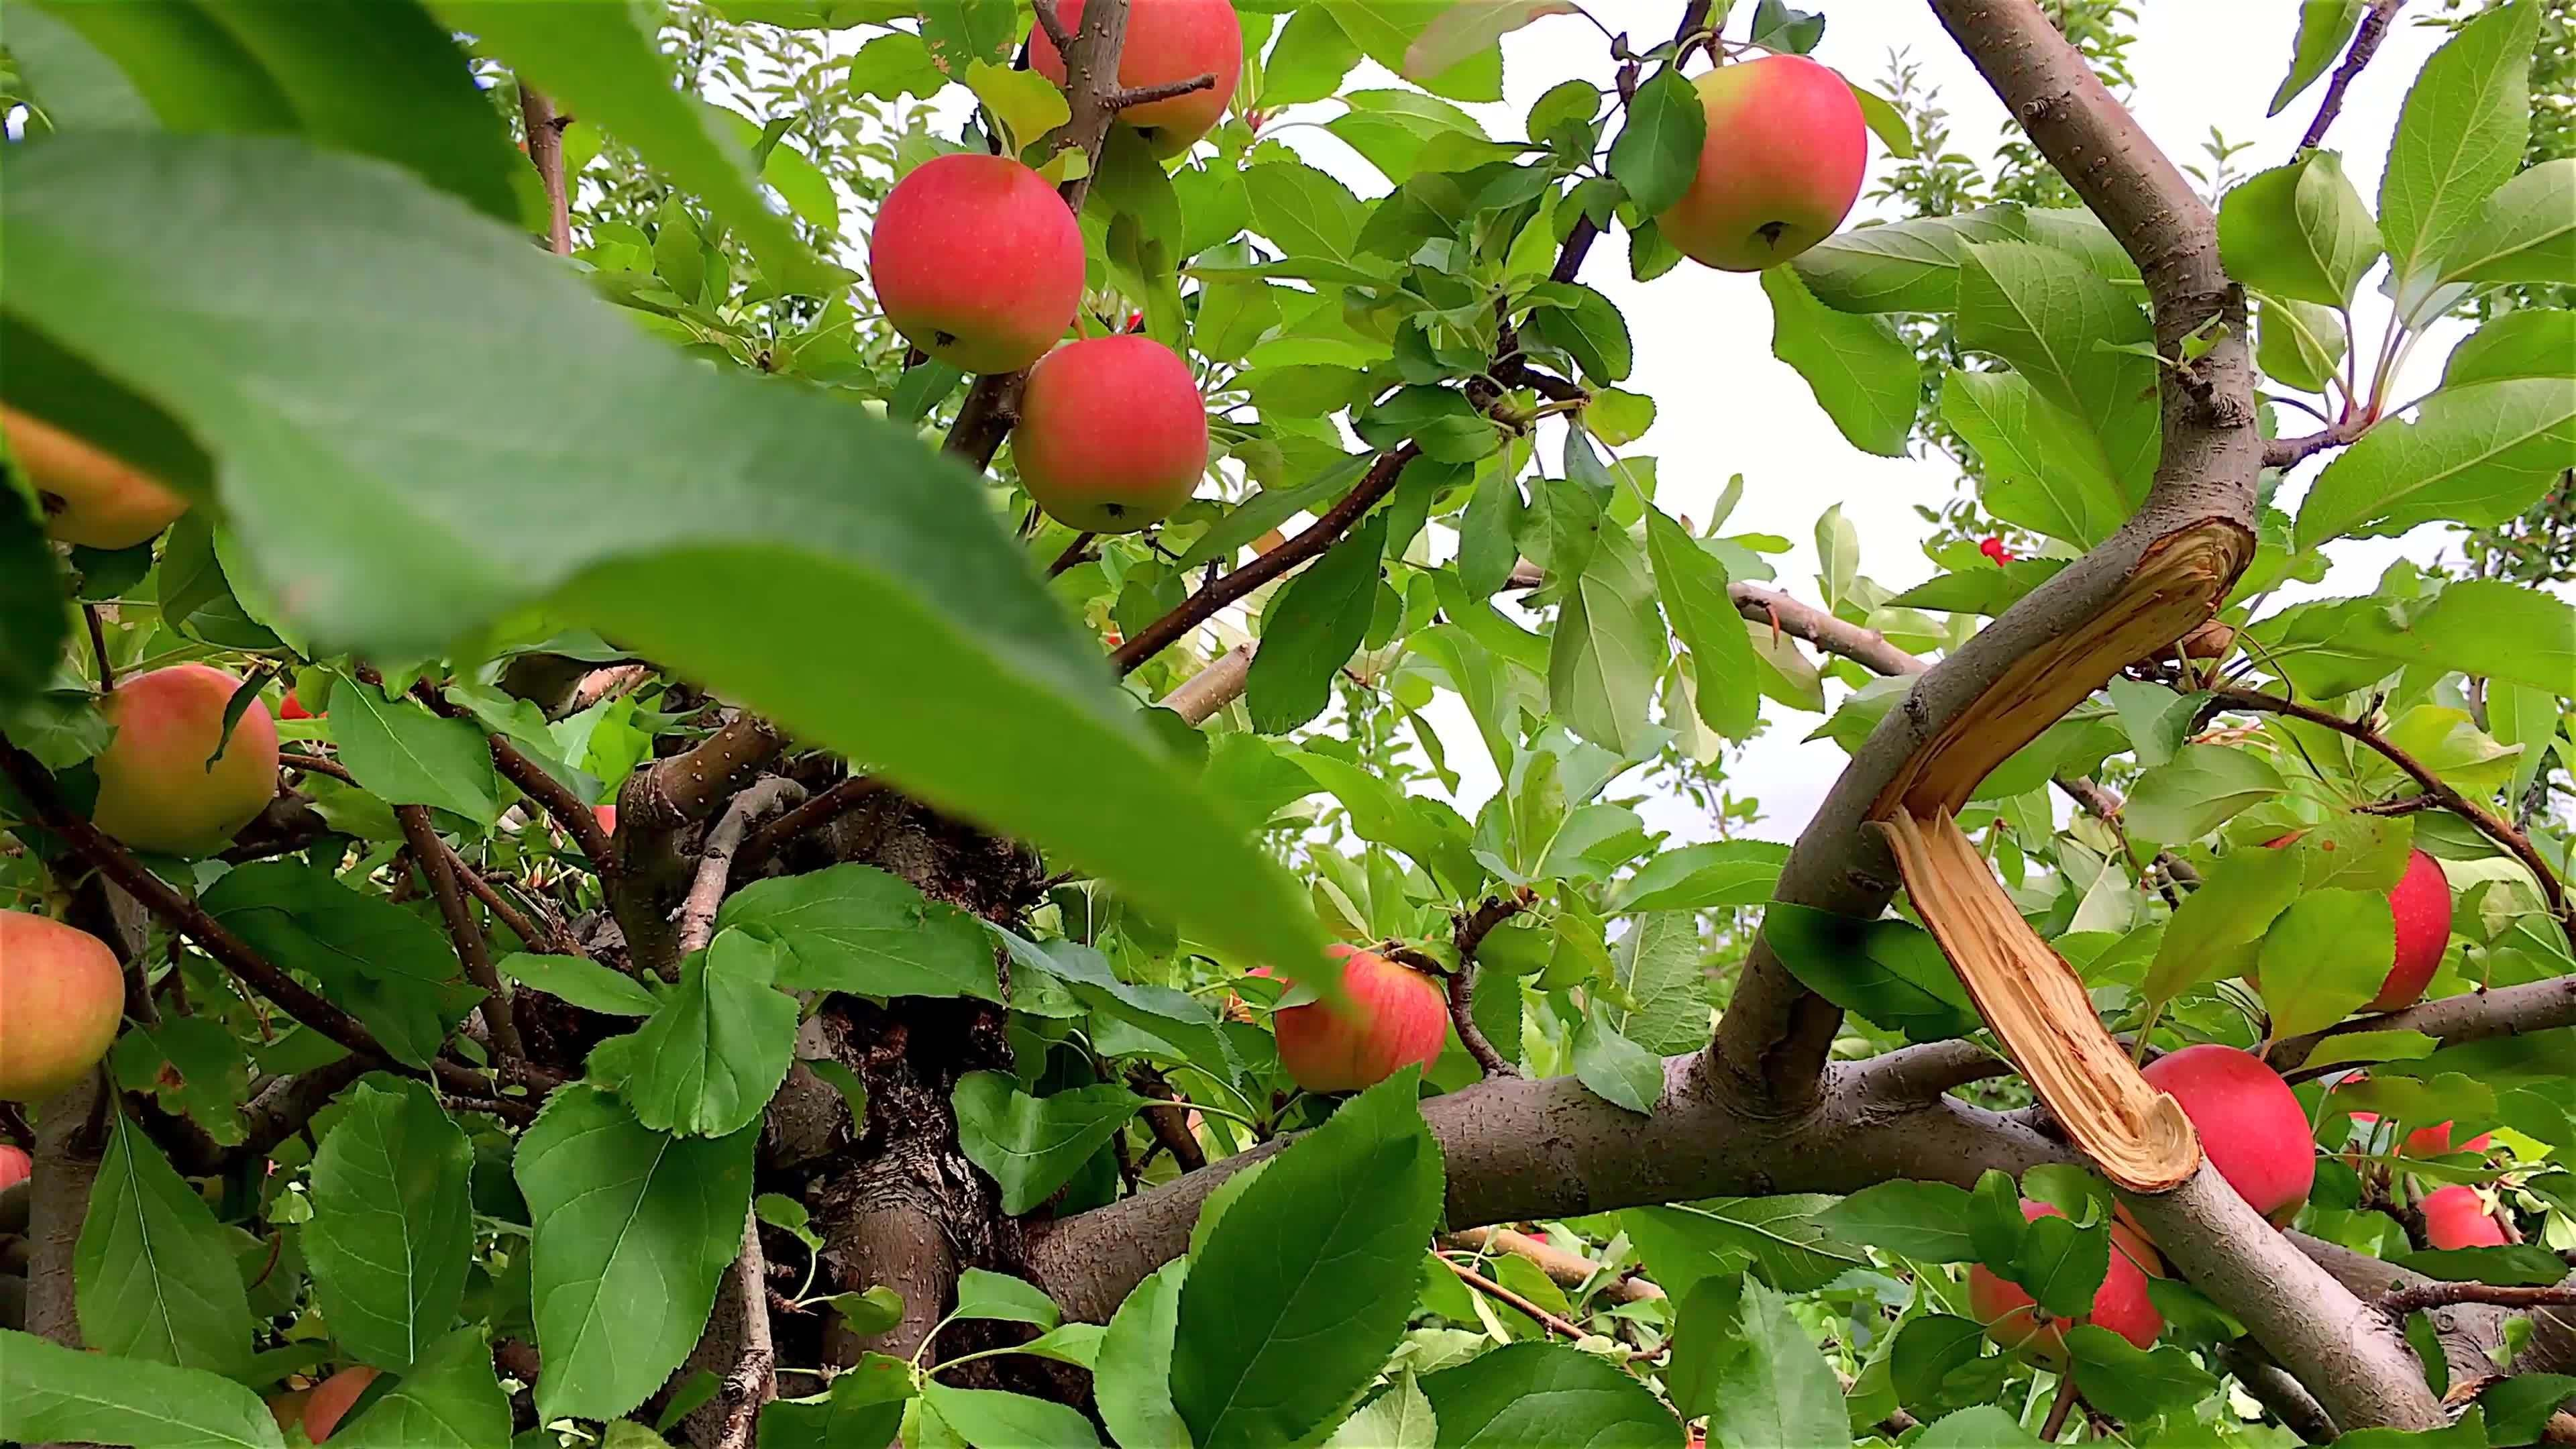apple: (1644, 58, 1870, 276), (874, 156, 1088, 380), (1014, 336, 1212, 536), (90, 667, 288, 858), (1019, 0, 1242, 161), (2139, 1047, 2319, 1226), (1269, 948, 1453, 1093), (0, 916, 127, 1118), (2388, 851, 2456, 1008)
